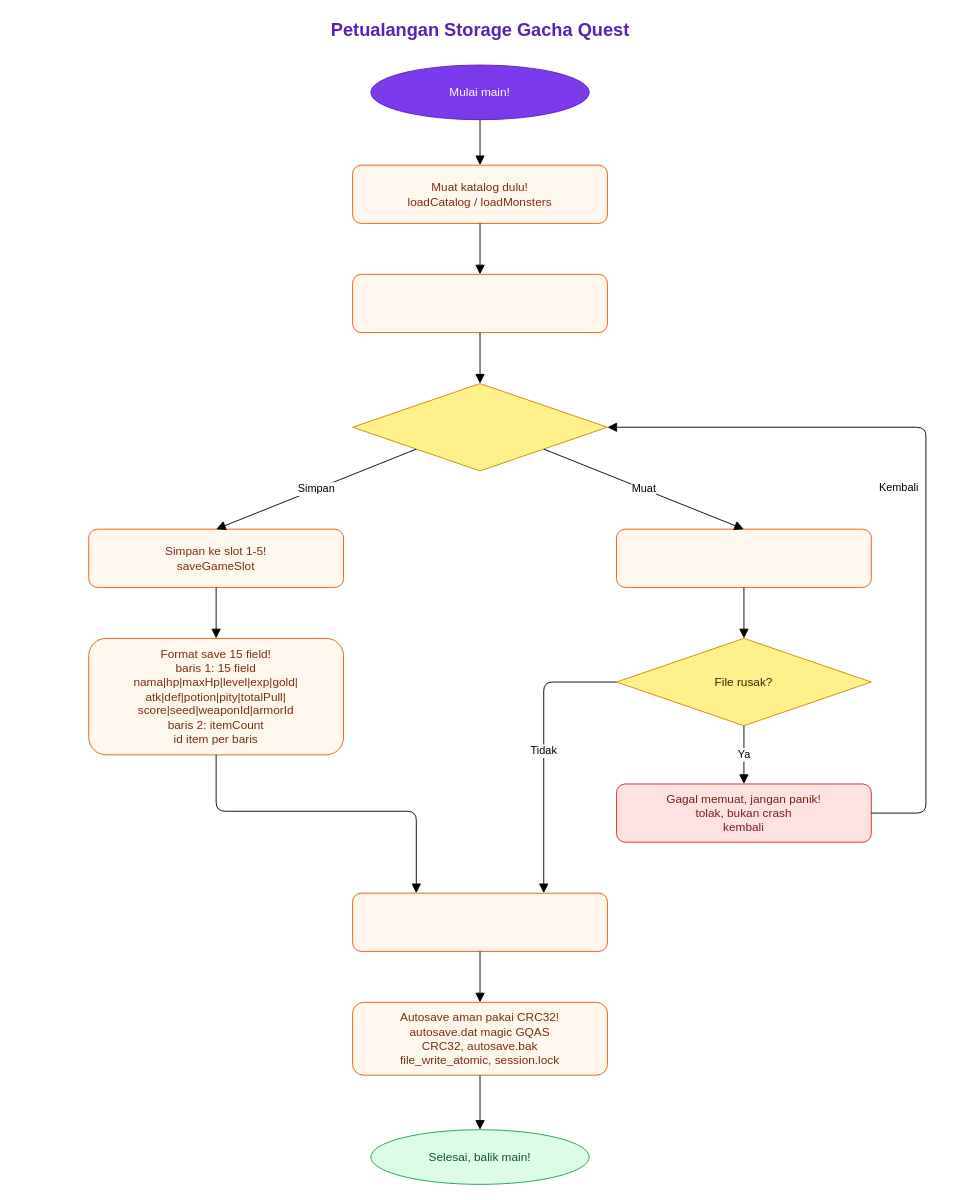
Some shapes in this 959 by 1200 pixel diagram are drawn without their labels. Each missing label, with the centre of its shape:
"36 item, 12 monster! item.txt: 36 item monster.txt: 12 monster" belongs at [479,303].
"Muat save lama! loadGameSlot slot 1 fallback save.txt" belongs at [743,557].
"Papan skor, top 5! recordScore / showLeaderboard maks 10 entri, tampil 5 teratas" belongs at [479,921].
"Simpan atau muat?" belongs at [479,427].
